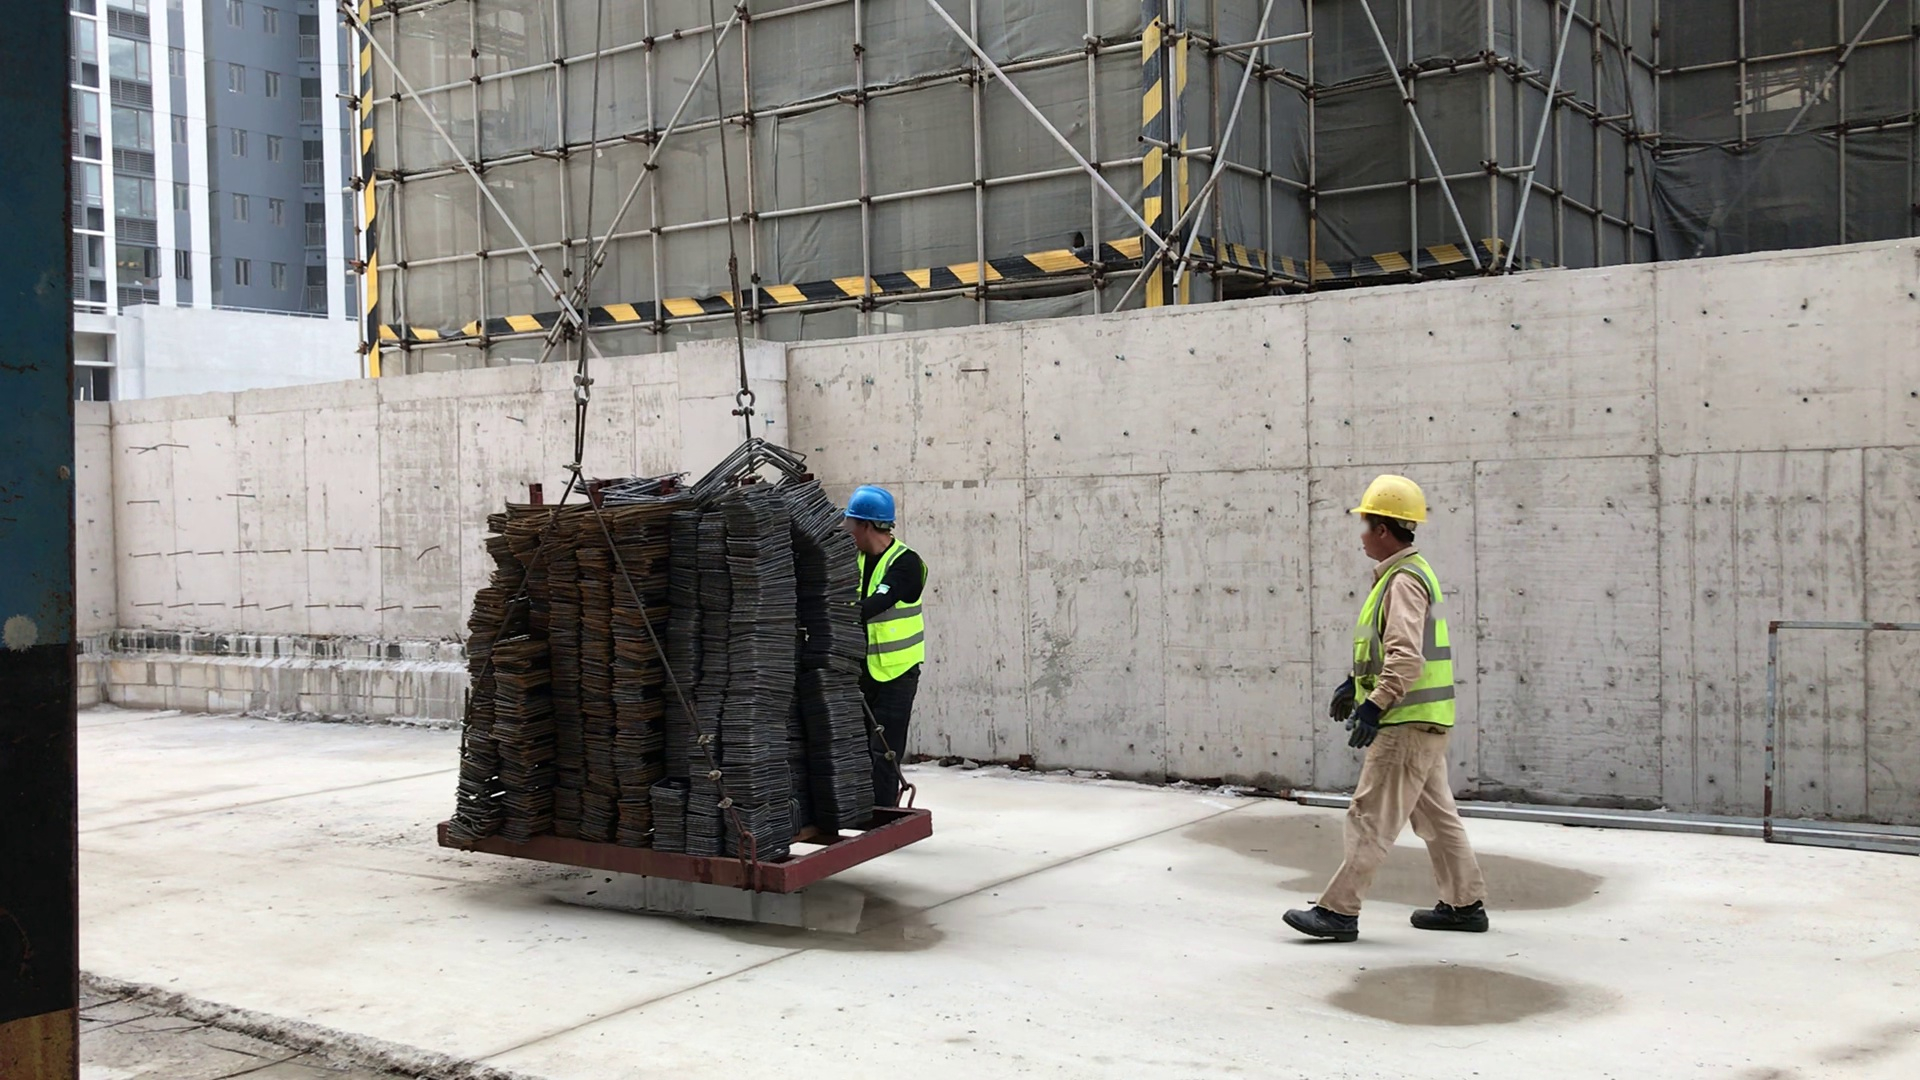helmet: (1348, 465, 1438, 534), (851, 481, 904, 544)
person: (1302, 467, 1482, 946), (827, 481, 927, 824)
vest: (1342, 567, 1465, 720), (833, 540, 925, 680)
